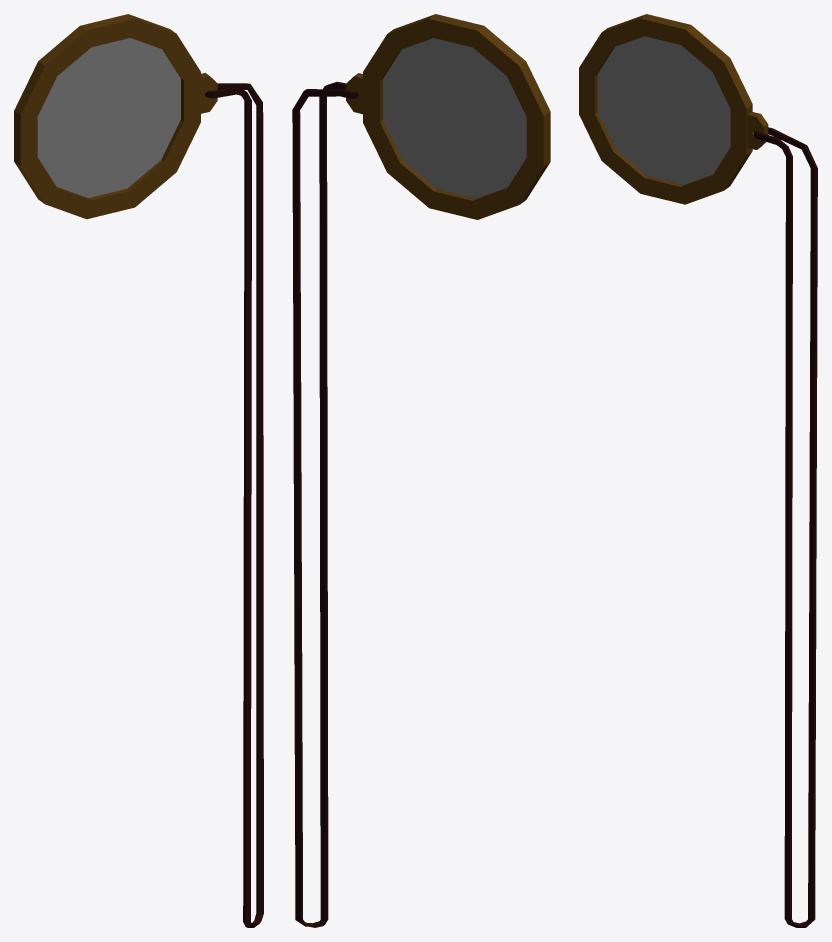
Rendered from monocle.obj.
3 views of the same model, side by side, from view 1: azimuth 30°, elevation 25°; view 2: azimuth 150°, elevation 25°; view 3: azimuth 330°, elevation 25° (orthographic). The views are drawn at different scales.
Bounding box in the file's own units: 2.67 × 9.61 × 0.183.
